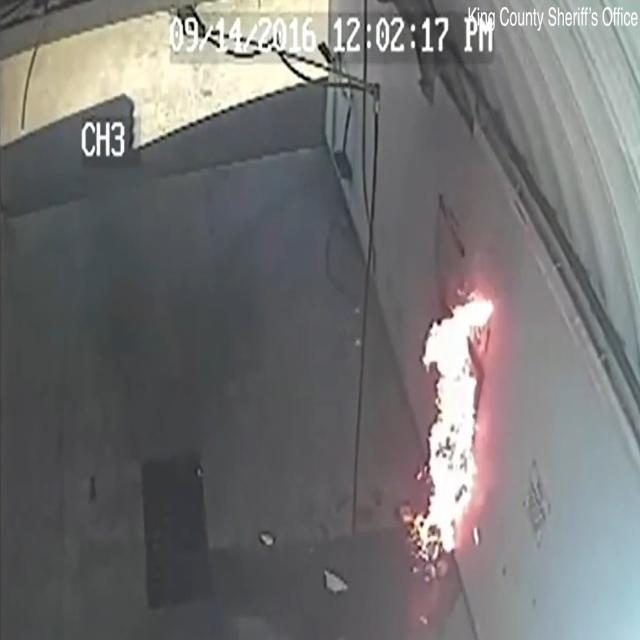Fire: (397, 264, 524, 584)
